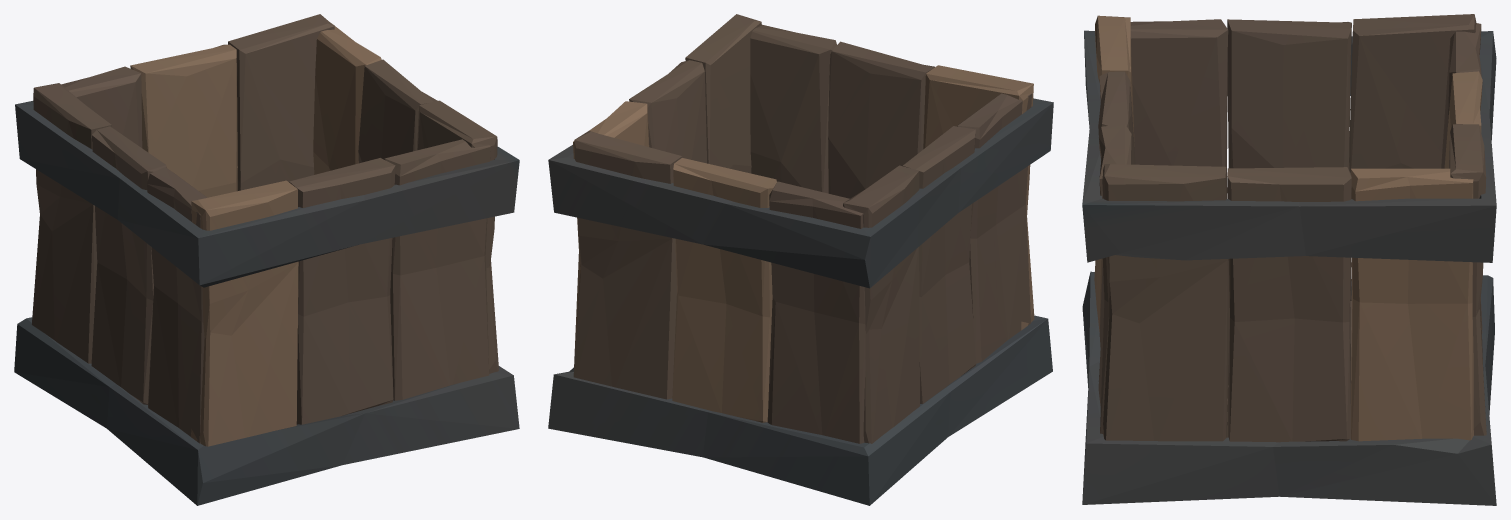
The model's file is Crate_Wood_02.FBX.
The picture shows the model from 3 angles, left to right: view 1: azimuth 30°, elevation 25°; view 2: azimuth 150°, elevation 25°; view 3: azimuth 270°, elevation 25°; orthographic projection. The views are drawn at different scales.
Visible parts, largest first — view 1: Crate_Wood_02; view 2: Crate_Wood_02; view 3: Crate_Wood_02.
Boxes of the visible parts, x1,y1,x2,y2 form: Crate_Wood_02: (14,14,519,505); Crate_Wood_02: (548,14,1053,505); Crate_Wood_02: (1082,14,1496,505).
Size of the model in its own units: 0.701 by 0.6045 by 0.7021.
